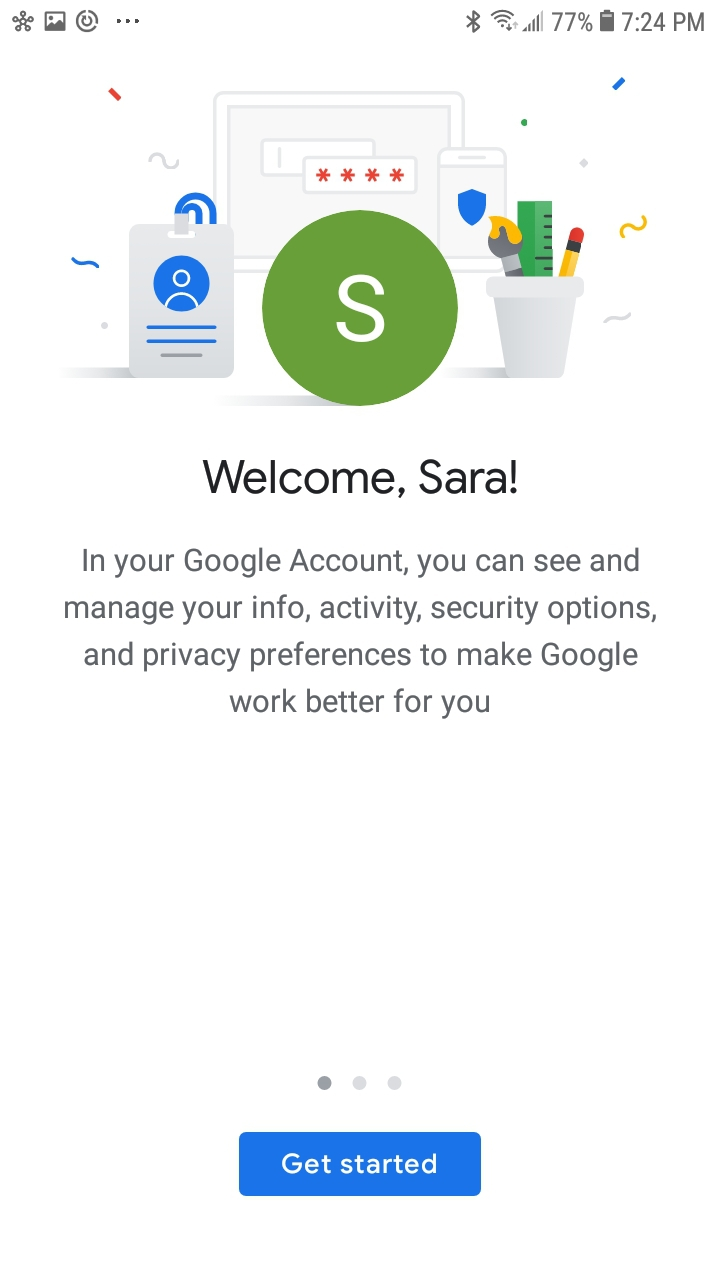Image: (66, 77, 648, 408)
PageIndicator: (317, 1075, 403, 1091)
Text: (65, 547, 657, 720), (202, 458, 518, 499)
TextButton: (239, 1132, 482, 1197)
UpperTaskBar: (1, 1, 720, 34)
